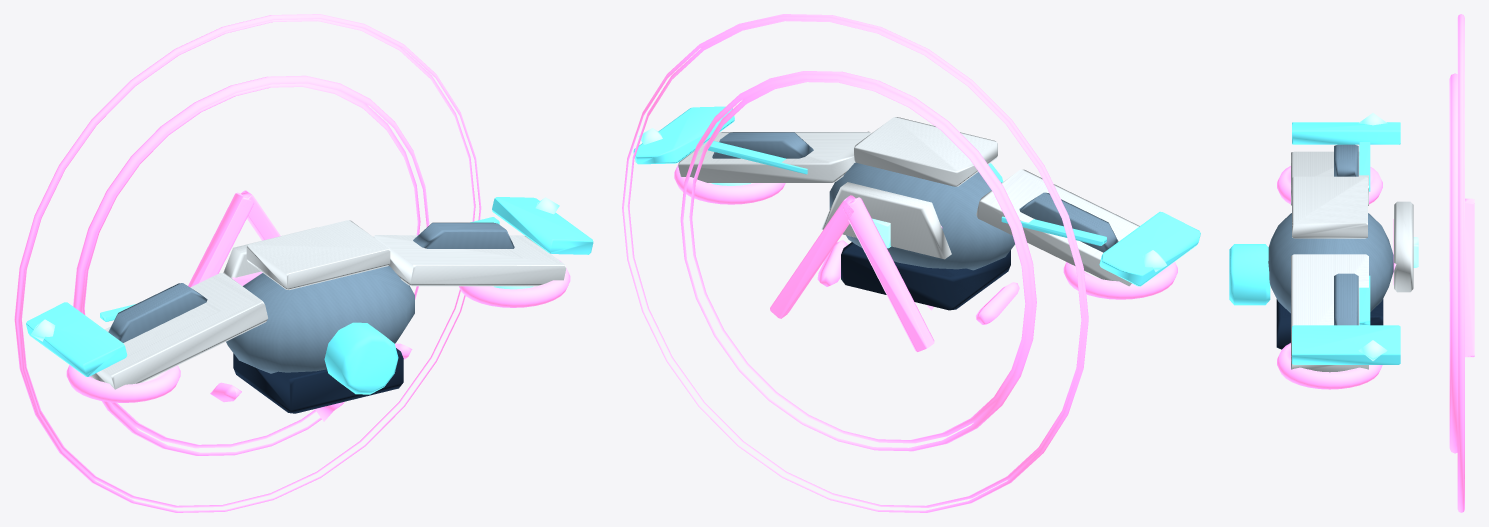
The model's file is Aegis-Hunter-Drone-Exact-Mesh-v4.1.0.glb.
The picture shows the model from 3 angles, left to right: view 1: azimuth 30°, elevation 25°; view 2: azimuth 150°, elevation 25°; view 3: azimuth 270°, elevation 25°; orthographic projection. The views are drawn at different scales.
Parts seen in each view (by area): view 1: aegisHull, targetOuter, targetInner, wingL, wingR, dorsalPlate, lowerCarapace, aftThruster, wingTipL, wingTipR, wingArmorL, wingArmorR (+5 smaller); view 2: targetInner, targetOuter, aegisHull, dorsalPlate, wingR, wingL, lowerCarapace, frontCarapace, wingTipL, slashLeft, wingTipR, slashRight (+8 smaller); view 3: aegisHull, dorsalPlate, wingR, wingTipR, targetOuter, targetInner, aftThruster, wingTipL, rotorR, frontCarapace, slashRight, wingArmorR (+7 smaller).
Part boxes in pixels (x1=…): aegisHull: x1=226, y1=266, x2=414, y2=373; targetOuter: x1=14, y1=14, x2=481, y2=512; targetInner: x1=73, y1=75, x2=429, y2=455; wingL: x1=90, y1=273, x2=267, y2=389; wingR: x1=373, y1=235, x2=566, y2=286; dorsalPlate: x1=246, y1=220, x2=390, y2=289; lowerCarapace: x1=233, y1=348, x2=403, y2=413; aftThruster: x1=324, y1=322, x2=398, y2=394; wingTipL: x1=26, y1=302, x2=127, y2=376; wingTipR: x1=492, y1=197, x2=593, y2=254; wingArmorL: x1=108, y1=283, x2=207, y2=342; wingArmorR: x1=413, y1=222, x2=514, y2=248; targetInner: x1=680, y1=71, x2=1036, y2=451; targetOuter: x1=622, y1=14, x2=1088, y2=512; aegisHull: x1=829, y1=162, x2=1014, y2=270; dorsalPlate: x1=854, y1=117, x2=997, y2=186; wingR: x1=678, y1=131, x2=870, y2=182; wingL: x1=976, y1=169, x2=1139, y2=286; lowerCarapace: x1=841, y1=242, x2=1010, y2=310; frontCarapace: x1=821, y1=182, x2=951, y2=259; wingTipL: x1=1099, y1=211, x2=1200, y2=286; slashLeft: x1=843, y1=197, x2=934, y2=351; wingTipR: x1=633, y1=106, x2=734, y2=164; slashRight: x1=770, y1=195, x2=855, y2=318; aegisHull: x1=1268, y1=213, x2=1393, y2=313; dorsalPlate: x1=1292, y1=176, x2=1367, y2=238; wingR: x1=1291, y1=254, x2=1368, y2=372; wingTipR: x1=1292, y1=325, x2=1400, y2=364; targetOuter: x1=1457, y1=14, x2=1464, y2=512; targetInner: x1=1449, y1=73, x2=1457, y2=453; aftThruster: x1=1229, y1=244, x2=1270, y2=305; wingTipL: x1=1292, y1=122, x2=1400, y2=144; rotorR: x1=1277, y1=343, x2=1382, y2=389; frontCarapace: x1=1394, y1=201, x2=1413, y2=292; slashRight: x1=1465, y1=202, x2=1474, y2=357; wingArmorR: x1=1334, y1=273, x2=1358, y2=325.
Size of the model in its own units: 2.77 by 2.43 by 1.2.
Materials: 6 (3 with a texture image).
